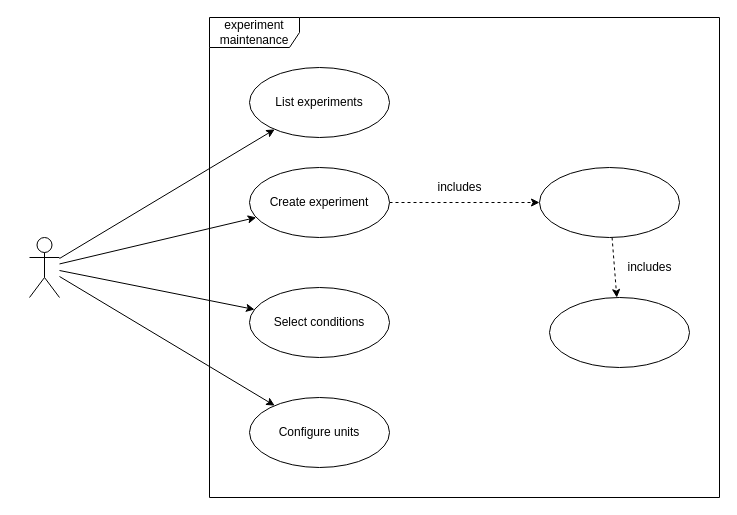
This 737x515 diagram has some shape labels left out. The shapes that lost their labels are listed below. From the top down, each one's box as (x1, y1, x2, y2) in pixels, then its label:
(538, 166, 680, 238): Create variable
(28, 236, 60, 298): Superuser
(548, 296, 690, 368): Create level
